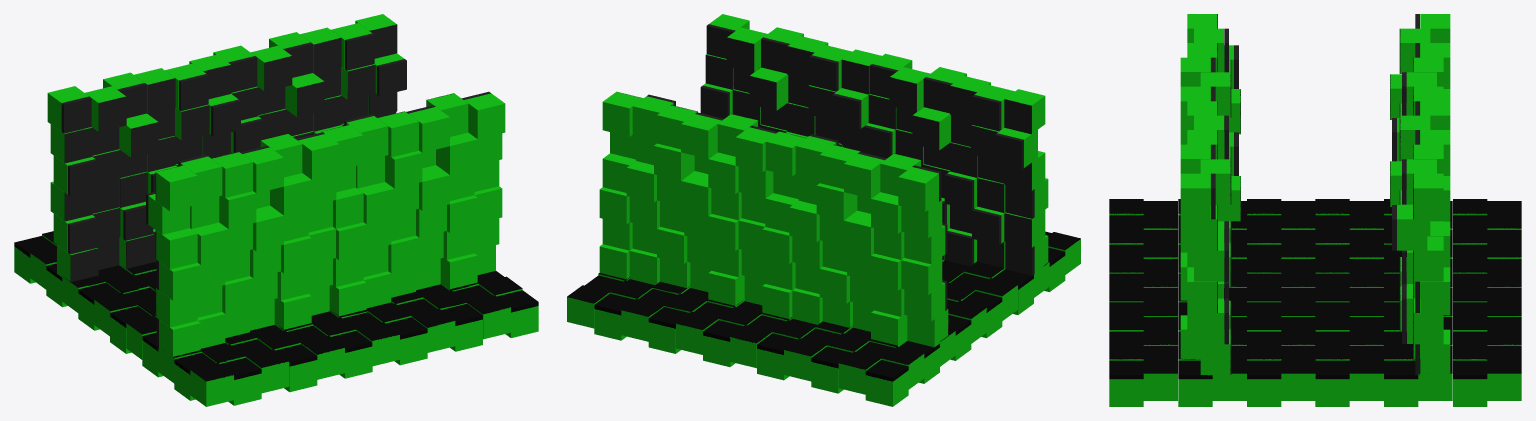
File: Icorridor-plateforme.fbx
3 renders of one model, left to right at view 1: azimuth 30°, elevation 25°; view 2: azimuth 150°, elevation 25°; view 3: azimuth 270°, elevation 25°, orthographic. The views are drawn at different scales.
Parts seen in each view (by area): view 1: Cube_2, Cube_5_2_2, Cube_5, Cube_12, Cube_10, Cube_10_2_2, Cube_18, Cube_3, Cube_3_2_2, Cube_1_2_2, Cube_1, Cube_30 (+152 smaller); view 2: Cube_5_3, Cube_3_3, Cube_3_5, Cube_23_3, Cube_2_5, Cube_2_4, Cube_5_4, Cube_8_3, Cube_8_4, Cube_15_4, Cube_29_3, Cube_17_3 (+142 smaller); view 3: Cube_5_2_2, Cube_2_5, Cube_12_4, Cube_6_4, Cube_18_4, Cube_30_4, Cube_23_2_2, Cube_29_2_2, Cube_11_2_2, Cube_24_4, Cube_17_2_2, Cube_35_2_2 (+141 smaller).
Part boxes in pixels (bbox=[...]): Cube_2: bbox=[156, 165, 197, 211]; Cube_5_2_2: bbox=[464, 93, 505, 139]; Cube_5: bbox=[298, 134, 339, 179]; Cube_12: bbox=[156, 228, 197, 269]; Cube_10: bbox=[270, 173, 311, 215]; Cube_10_2_2: bbox=[436, 132, 477, 174]; Cube_18: bbox=[159, 262, 200, 300]; Cube_3: bbox=[242, 147, 283, 193]; Cube_3_2_2: bbox=[408, 107, 449, 152]; Cube_1_2_2: bbox=[377, 111, 418, 157]; Cube_1: bbox=[212, 152, 252, 197]; Cube_30: bbox=[159, 320, 200, 358]; Cube_5_3: bbox=[898, 167, 938, 211]; Cube_3_3: bbox=[844, 153, 884, 198]; Cube_3_5: bbox=[681, 114, 721, 158]; Cube_23_3: bbox=[901, 257, 942, 294]; Cube_2_5: bbox=[602, 92, 642, 136]; Cube_2_4: bbox=[765, 131, 805, 176]; Cube_5_4: bbox=[735, 127, 775, 172]; Cube_8_3: bbox=[816, 183, 857, 220]; Cube_8_4: bbox=[654, 143, 694, 180]; Cube_15_4: bbox=[681, 171, 711, 215]; Cube_29_3: bbox=[904, 282, 945, 321]; Cube_17_3: bbox=[904, 225, 945, 264]; Cube_5_2_2: bbox=[1180, 173, 1210, 219]; Cube_2_5: bbox=[1413, 173, 1443, 219]; Cube_12_4: bbox=[1413, 236, 1443, 281]; Cube_6_4: bbox=[1397, 205, 1427, 250]; Cube_18_4: bbox=[1420, 267, 1450, 312]; Cube_30_4: bbox=[1420, 329, 1450, 375]; Cube_23_2_2: bbox=[1187, 267, 1217, 312]; Cube_29_2_2: bbox=[1194, 298, 1223, 344]; Cube_11_2_2: bbox=[1187, 205, 1217, 250]; Cube_24_4: bbox=[1413, 298, 1443, 344]; Cube_17_2_2: bbox=[1194, 236, 1223, 281]; Cube_35_2_2: bbox=[1200, 329, 1230, 375].
Bounding box in the file's own units: 2403 × 1407 × 2403.
